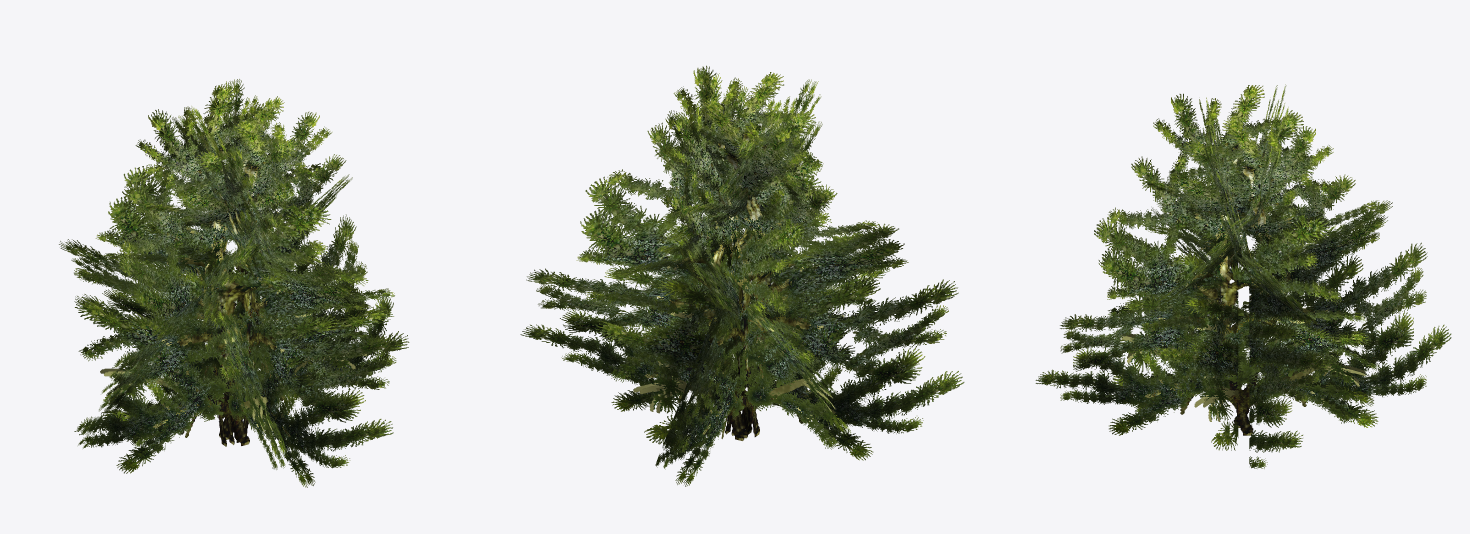
File: fir_sapling_2.glb
3 views of the same model, side by side, from view 1: azimuth 30°, elevation 25°; view 2: azimuth 150°, elevation 25°; view 3: azimuth 270°, elevation 25° (orthographic). The views are drawn at different scales.
Visible parts, largest first — view 1: fir_sapling_2; view 2: fir_sapling_2; view 3: fir_sapling_2.
Part boxes in pixels (bbox=[...]): fir_sapling_2: bbox=[59, 79, 409, 487]; fir_sapling_2: bbox=[520, 65, 964, 486]; fir_sapling_2: bbox=[1035, 84, 1451, 468].
Bounding box in the file's own units: 8.91 × 7.55 × 8.91.
1 material, 1 textured.
